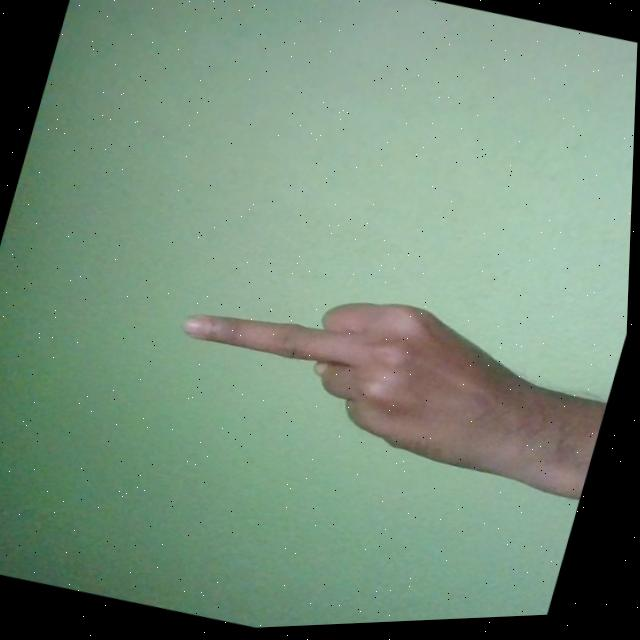Middle Finger: (159, 248, 612, 510)
